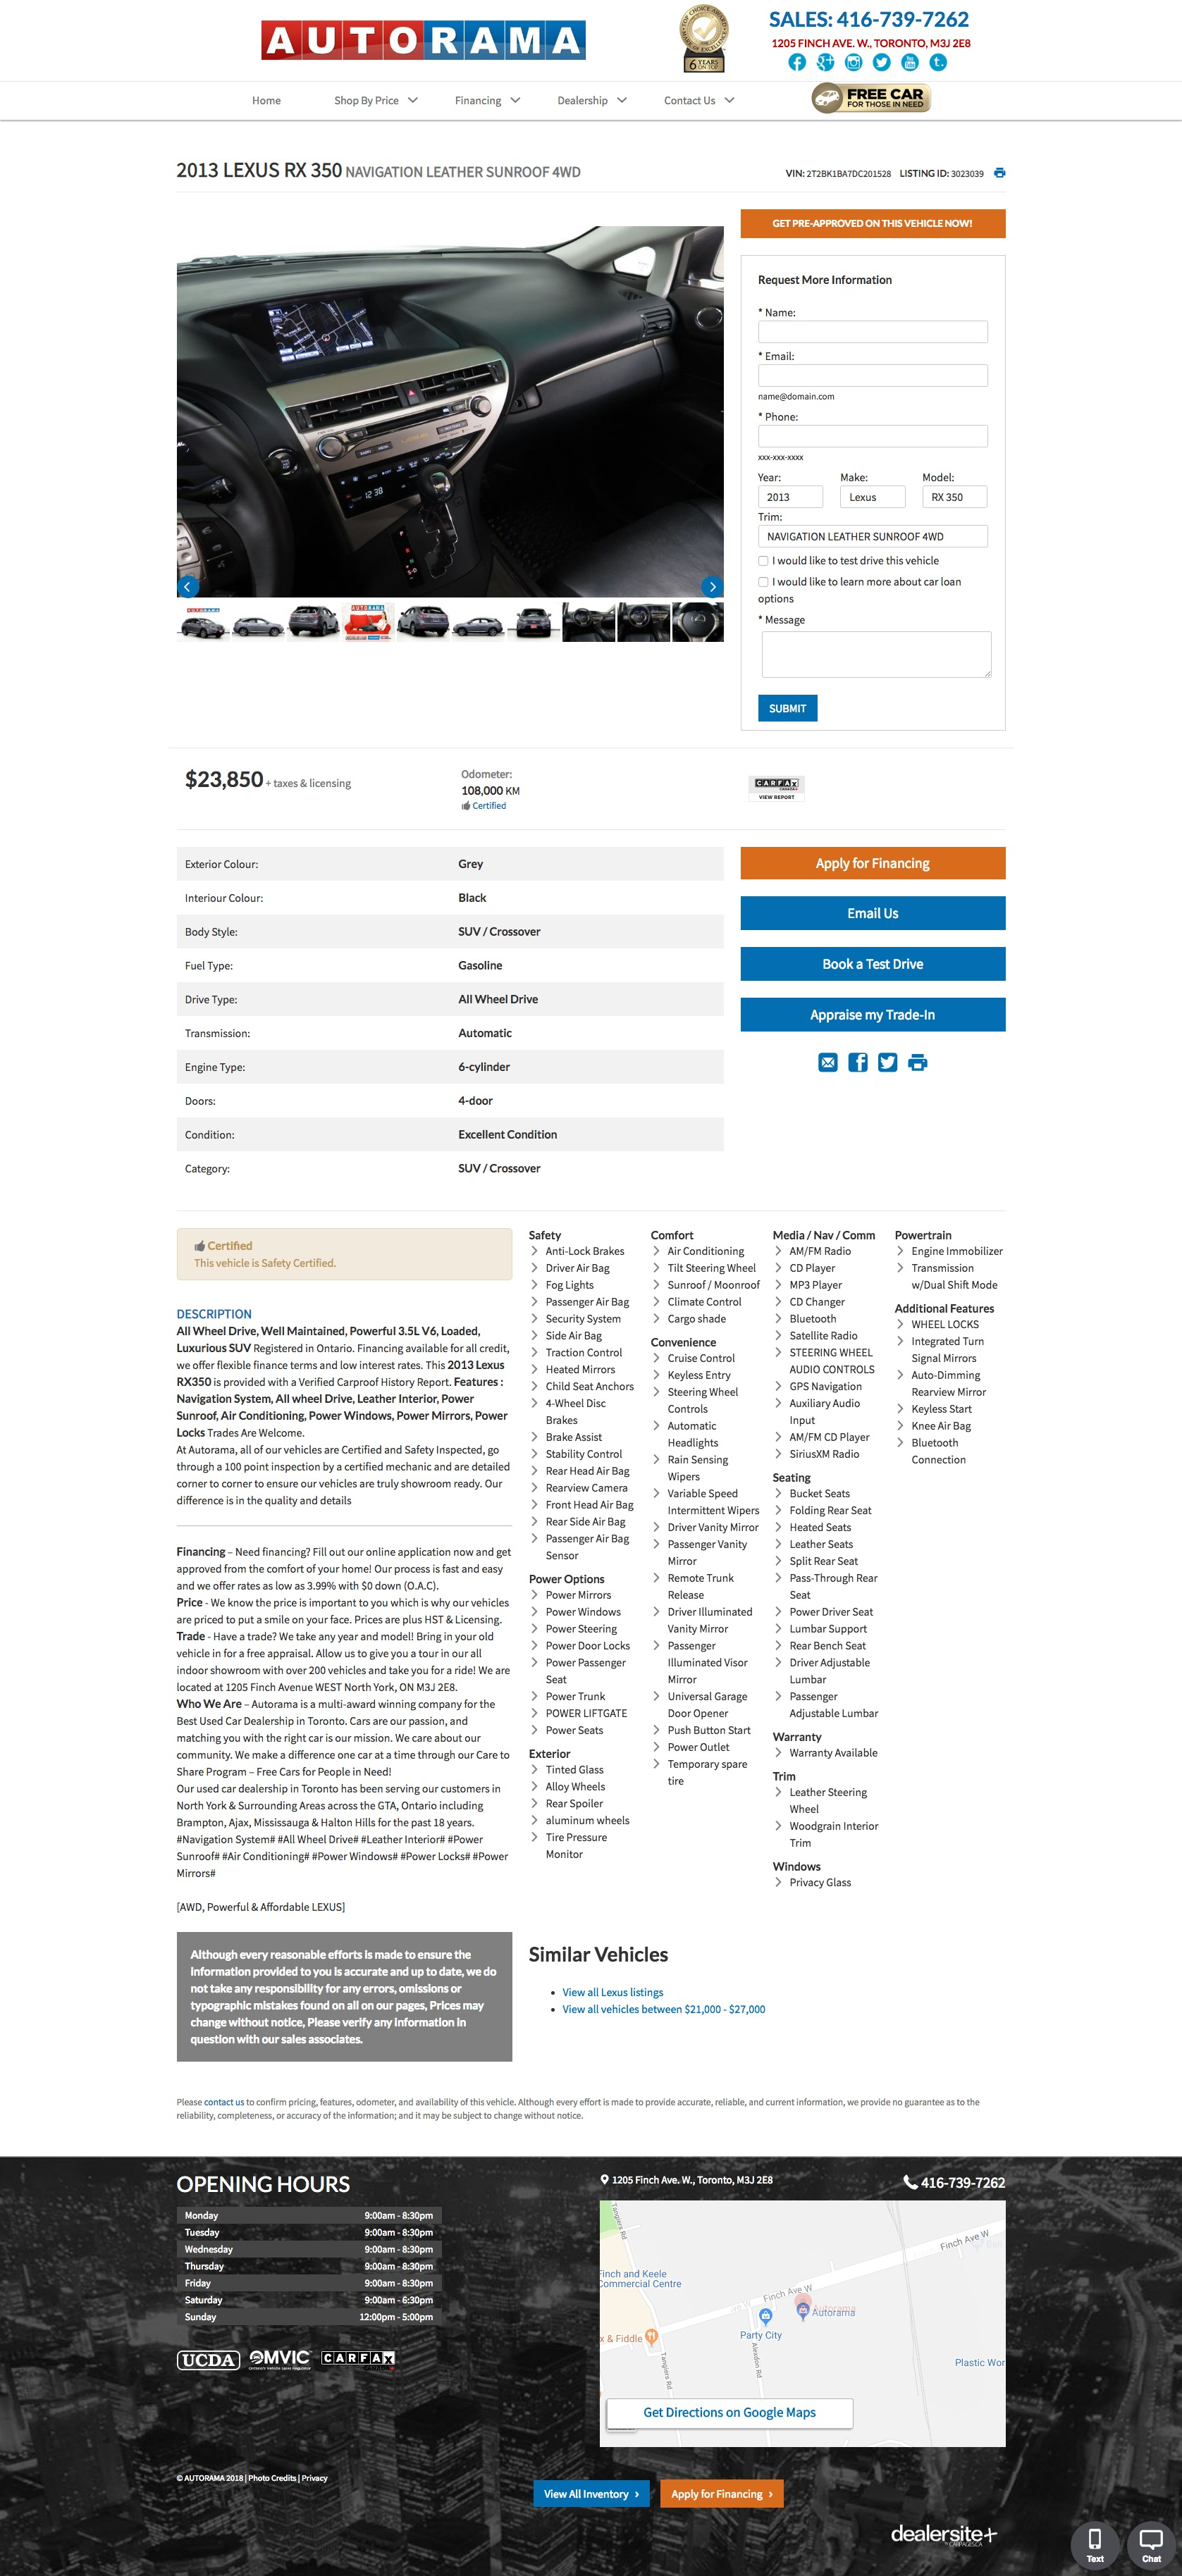car: (700, 575, 725, 600)
